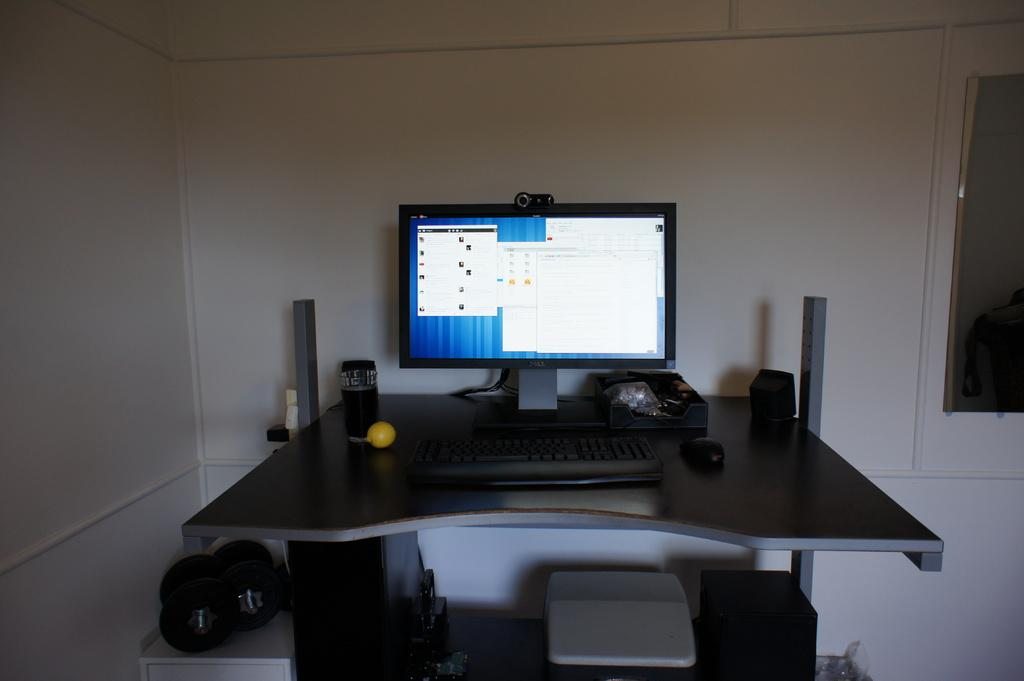Computer-keyboard: (395, 428, 666, 486)
Computer-monitor: (388, 204, 698, 440)
